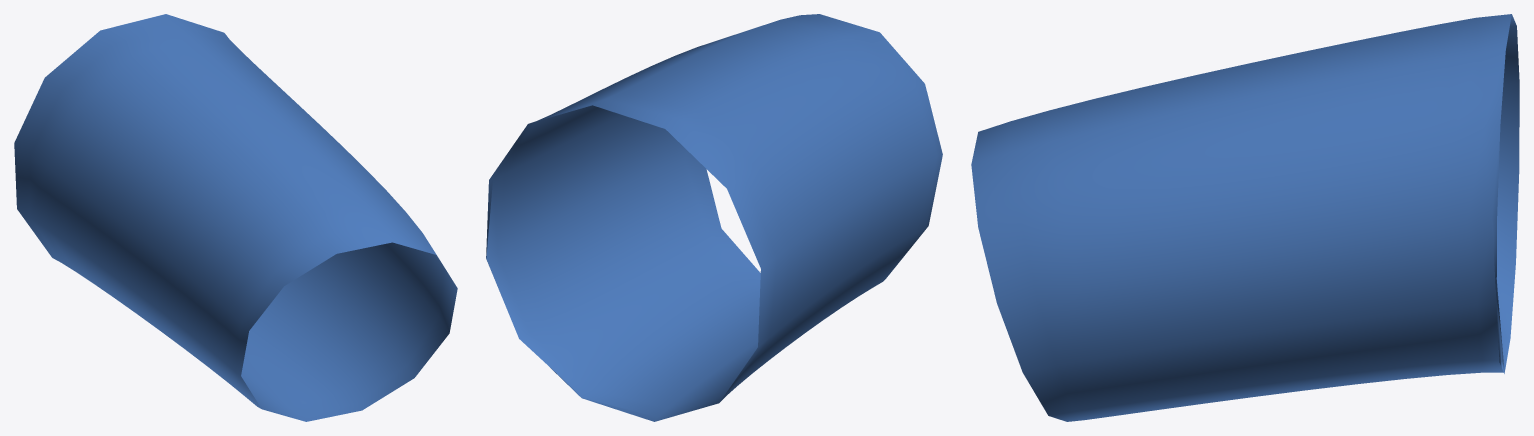
3 views of the same model, side by side, from view 1: azimuth 30°, elevation 25°; view 2: azimuth 150°, elevation 25°; view 3: azimuth 270°, elevation 25° (orthographic). The views are drawn at different scales.
Visible parts, largest first — view 1: 上腔静脉; view 2: 上腔静脉; view 3: 上腔静脉.
Boxes of the visible parts, bbox=[...] form: 上腔静脉: bbox=[14, 14, 457, 421]; 上腔静脉: bbox=[486, 14, 942, 421]; 上腔静脉: bbox=[971, 14, 1519, 421].
Bounding box in the file's own units: 0.0367 × 0.0398 × 0.0555.
